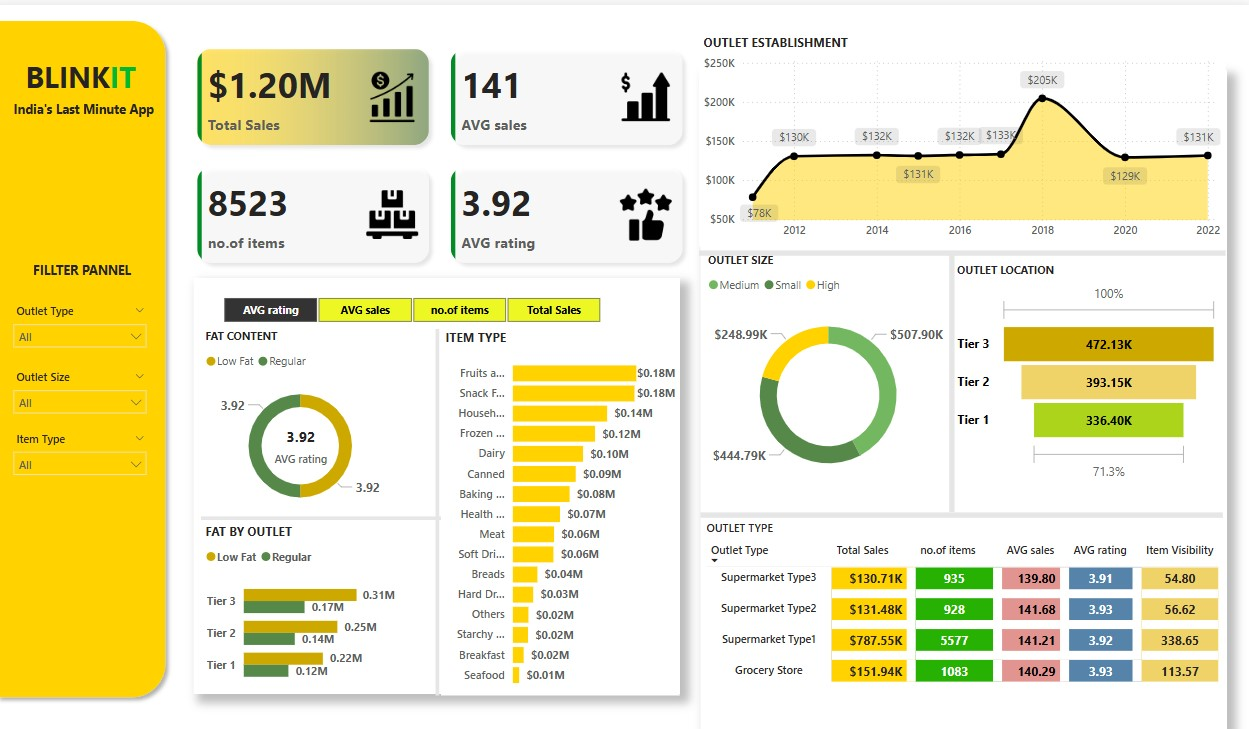

The page's visual inventory and layout, read from the dashboard file:
{"tool":"powerbi","page":{"name":"Page 1","canvas":[1400,800],"ordinal":0},"visuals":[{"type":"shape","box":[0,8.3,205,765],"z":0},{"type":"textbox","box":[14.1,51.3,175,56.6],"z":1000},{"type":"textbox","box":[0,81.3,213.8,53],"z":2000},{"type":"cardVisual","fields":{"Data":["blinkit.Total Sales","blinkit.AVG sales","blinkit.no.of items","blinkit.AVG rating"]},"box":[213.8,31.8,570.9,270.4],"z":3000},{"type":"shape","box":[226.2,302.2,537.3,459.5],"z":4000},{"type":"donutChart","title":"FAT CONTENT","fields":{"Y":["blinkit.AVG rating"],"Category":["blinkit.Item Fat Content"]},"box":[235.1,357,219.2,213.8],"z":5000},{"type":"slicer","fields":{"Values":["metrics.metrics"]},"box":[235.1,316.4,464.8,40.6],"z":6000},{"type":"card","fields":{"Values":["blinkit.AVG rating"]},"box":[304,459.5,81.3,54.8],"z":7000},{"type":"clusteredBarChart","title":"FAT BY OUTLET","fields":{"Y":["Sum(blinkit.Sales)"],"Category":["blinkit.Outlet Location Type"],"Series":["blinkit.Item Fat Content"]},"box":[235.1,570.9,219.2,190.9],"z":8000},{"type":"shape","box":[235.1,563.8,265.1,7.1],"z":9000},{"type":"shape","box":[480.7,357,31.8,404.7],"z":10000},{"type":"barChart","title":"ITEM TYPE","fields":{"Category":["blinkit.Item Type"],"Y":["blinkit.Total Sales"]},"box":[500.2,357,263.3,404.7],"z":11000},{"type":"shape","box":[786.5,70.7,581.5,729.9],"z":12000},{"type":"lineChart","title":"OUTLET ESTABLISHMENT","fields":{"Y":["blinkit.Total Sales"],"Category":["blinkit.Outlet Establishment Year"]},"box":[784.7,31.8,581.5,235.1],"z":13000},{"type":"shape","box":[784.7,263.3,581.5,21.2],"z":14000},{"type":"donutChart","title":"OUTLET SIZE","fields":{"Y":["blinkit.Total Sales"],"Category":["blinkit.Outlet Size"]},"box":[790,273.3,275,270],"z":15000},{"type":"funnel","title":"OUTLET  LOCATION","fields":{"Y":["Sum(blinkit.Sales)"],"Category":["blinkit.Outlet Location Type"]},"box":[1065,285,298.3,246.7],"z":15001},{"type":"shape","box":[1045,273.3,38.3,286.7],"z":15003},{"type":"pivotTable","title":"OUTLET TYPE","fields":{"Rows":["blinkit.Outlet Type"],"Values":["blinkit.Total Sales","blinkit.no.of items","blinkit.AVG sales","blinkit.AVG rating","Sum(blinkit.Item Visibility)"]},"box":[788.3,570,578.3,193.3],"z":15004},{"type":"slicer","fields":{"Values":["blinkit.Outlet Type"]},"box":[18.3,325,166.7,66.7],"z":15005},{"type":"slicer","fields":{"Values":["blinkit.Outlet Size"]},"box":[18.3,396.7,166.7,66.7],"z":15006},{"type":"slicer","fields":{"Values":["blinkit.Item Type"]},"box":[18.3,465,166.7,66.7],"z":15007},{"type":"textbox","box":[0,258.3,200,53.3],"z":15008},{"type":"shape","box":[786.7,546.7,576.7,33.3],"z":15009}]}

Visuals, with their boxes in screenshot pixels (x1, y1, x2, y2), scaled from the page's 1400x800 canvas onto the 1249x729 screenshot:
shape: 0, 8, 183, 705
textbox: 13, 47, 169, 98
textbox: 0, 74, 191, 122
cardVisual - blinkit.Total Sales x blinkit.AVG sales: 191, 29, 700, 275
shape: 202, 275, 681, 694
"FAT CONTENT" donutChart: 210, 325, 405, 520
slicer - metrics.metrics: 210, 288, 624, 325
card - blinkit.AVG rating: 271, 419, 344, 469
"FAT BY OUTLET" clusteredBarChart: 210, 520, 405, 694
shape: 210, 514, 446, 520
shape: 429, 325, 457, 694
"ITEM TYPE" barChart: 446, 325, 681, 694
shape: 702, 64, 1220, 728
"OUTLET ESTABLISHMENT" lineChart: 700, 29, 1219, 243
shape: 700, 240, 1219, 259
"OUTLET SIZE" donutChart: 705, 249, 950, 495
"OUTLET  LOCATION" funnel: 950, 260, 1216, 485
shape: 932, 249, 966, 510
"OUTLET TYPE" pivotTable: 703, 519, 1219, 696
slicer - blinkit.Outlet Type: 16, 296, 165, 357
slicer - blinkit.Outlet Size: 16, 361, 165, 422
slicer - blinkit.Item Type: 16, 424, 165, 485
textbox: 0, 235, 178, 284
shape: 702, 498, 1216, 529
